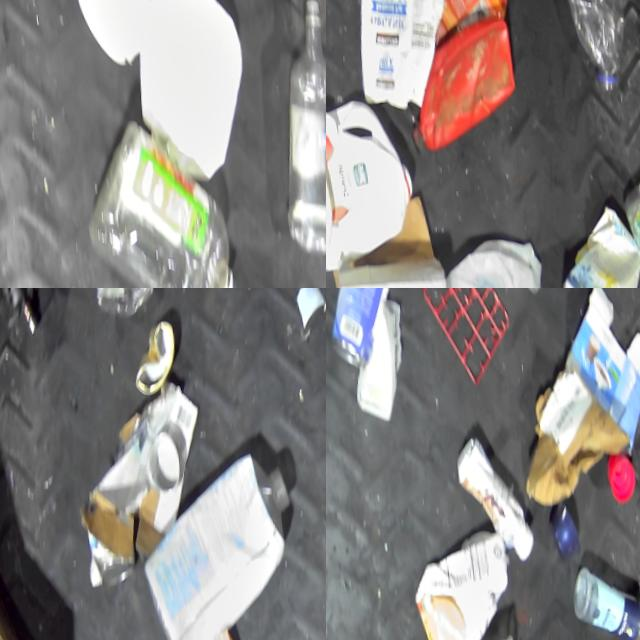can: (326, 288, 397, 377)
milk_jug: (131, 441, 306, 640), (326, 87, 414, 280), (440, 248, 551, 288)
non_white_jug: (401, 15, 516, 156), (409, 531, 513, 640)
plastic_bottle: (272, 3, 326, 270), (562, 0, 630, 111)
